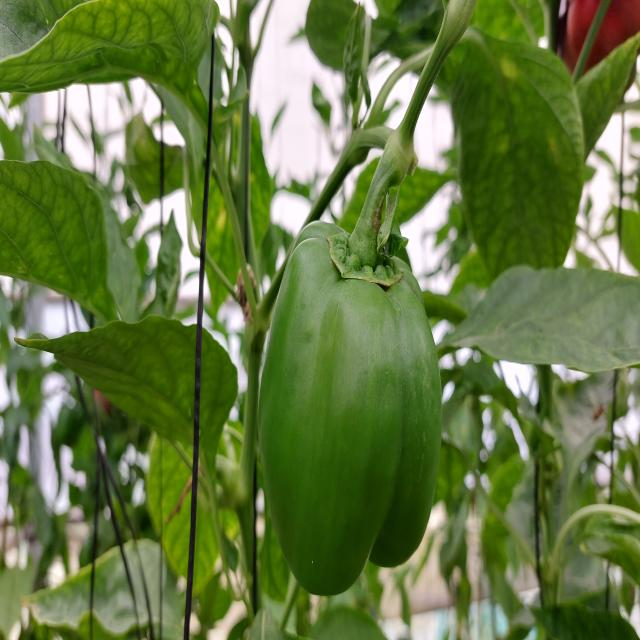Green--Not-ready-to-harvest: (261, 224, 442, 599)
